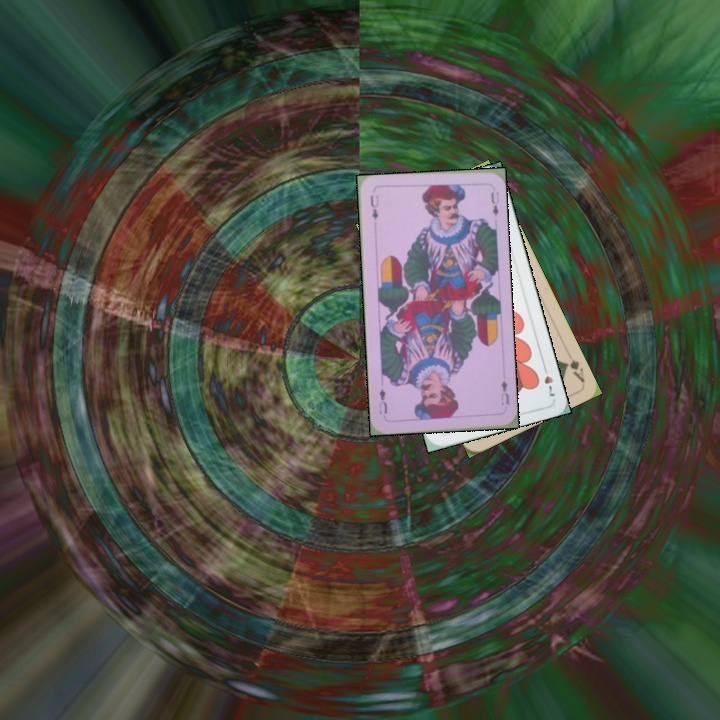EU: (366, 191, 381, 222), (497, 376, 511, 408)
GA: (560, 355, 587, 385)
H7: (539, 361, 557, 401)
